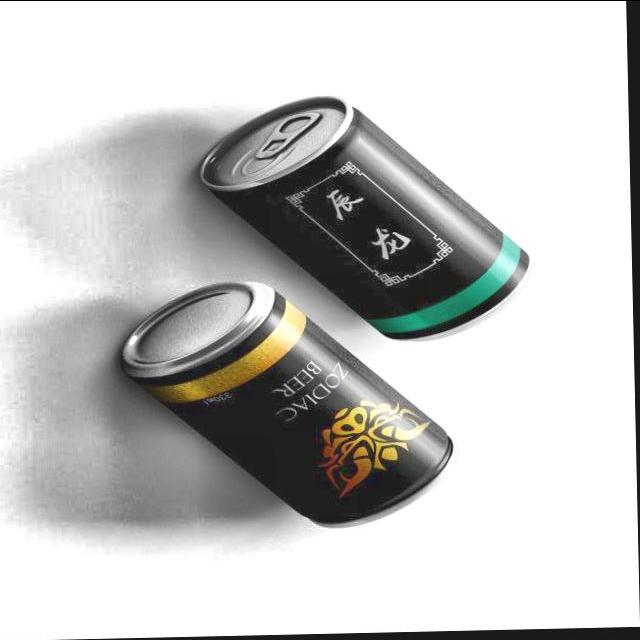Aluminum Can: (192, 85, 548, 354), (112, 272, 468, 541)
